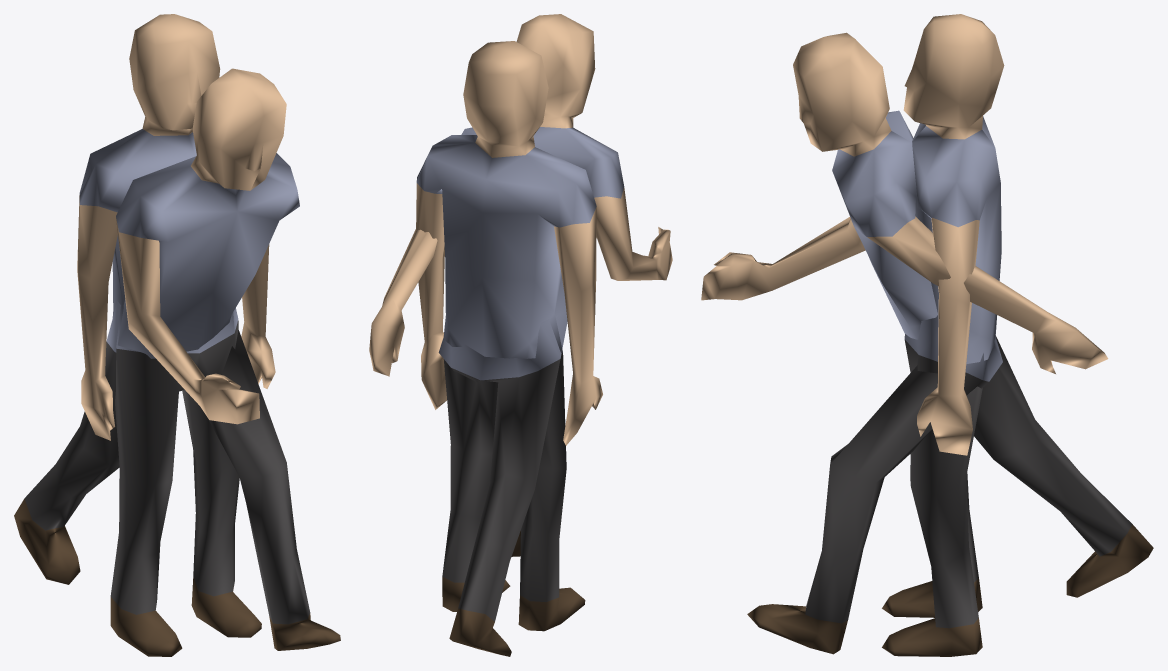
File: Player.fbx
The picture shows the model from 3 angles, left to right: view 1: azimuth 30°, elevation 25°; view 2: azimuth 150°, elevation 25°; view 3: azimuth 270°, elevation 25°; orthographic projection. The views are drawn at different scales.
Parts seen in each view (by area): view 1: Male_Walking, Male_Standing.001; view 2: Male_Standing.001, Male_Walking; view 3: Male_Walking, Male_Standing.001.
Boxes of the visible parts, x1,y1,x2,y2 form: Male_Walking: (14,68,340,650); Male_Standing.001: (77,14,275,656); Male_Standing.001: (416,41,602,631); Male_Walking: (369,14,672,656); Male_Walking: (701,32,1153,654); Male_Standing.001: (882,14,1004,656).
Size of the model in its own units: 124 by 383 by 258.
